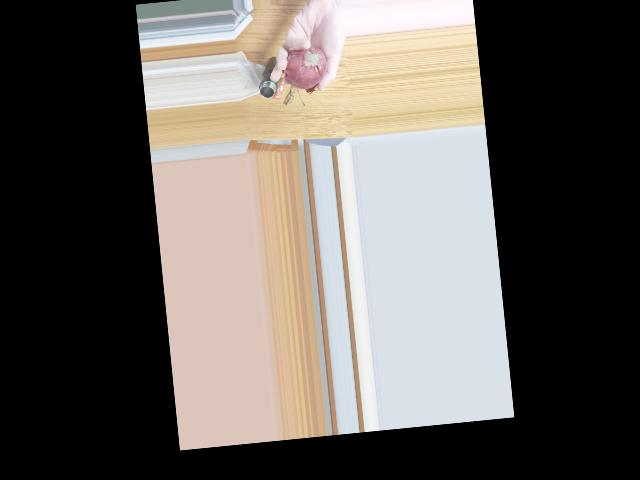onion: (282, 43, 329, 86)
